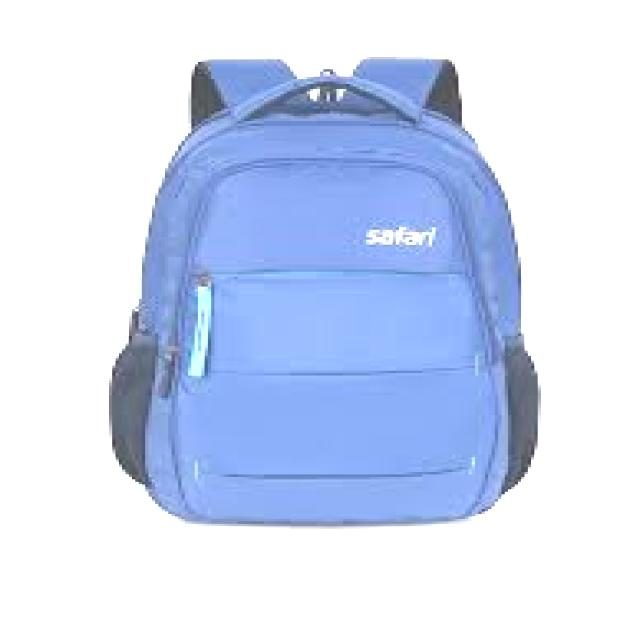backpack: (107, 55, 543, 525)
